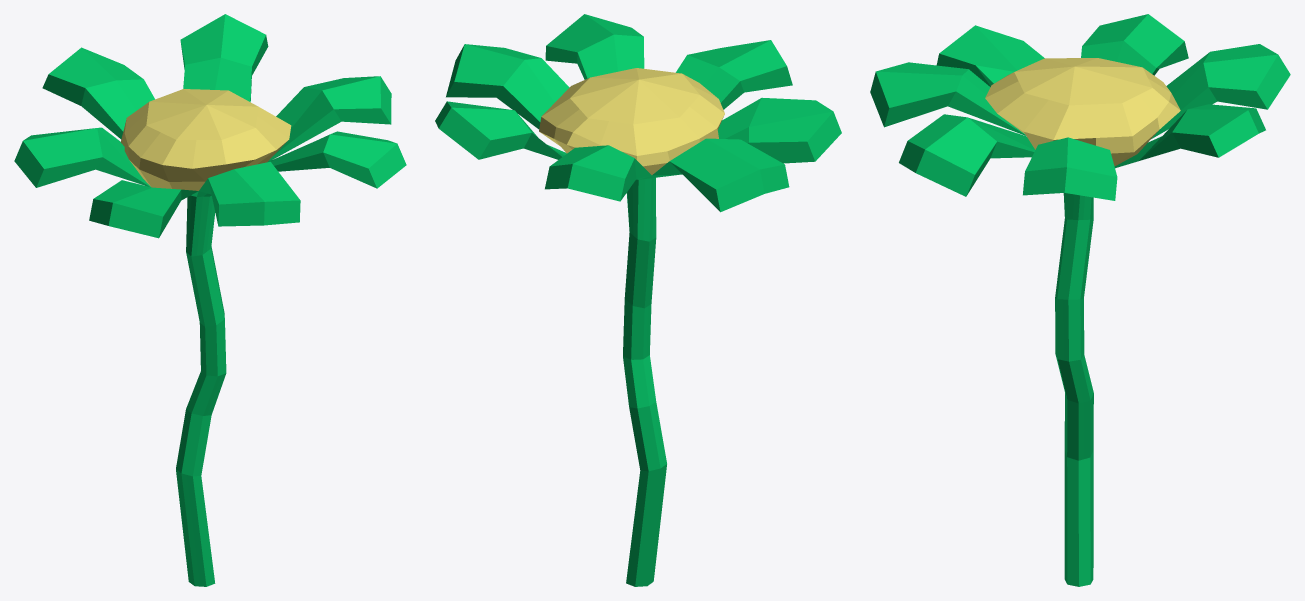
The model's file is JumpPadFlower_01.fbx.
The picture shows the model from 3 angles, left to right: view 1: azimuth 30°, elevation 25°; view 2: azimuth 150°, elevation 25°; view 3: azimuth 270°, elevation 25°; orthographic projection. The views are drawn at different scales.
Visible parts, largest first — view 1: JumpPadFlower_01; view 2: JumpPadFlower_01; view 3: JumpPadFlower_01.
Boxes of the visible parts, box(x1,y1,x2,y2) form: JumpPadFlower_01: box(14, 14, 406, 586); JumpPadFlower_01: box(435, 14, 841, 586); JumpPadFlower_01: box(870, 14, 1290, 586).
Size of the model in its own units: 7.16 by 9.9 by 7.16.
